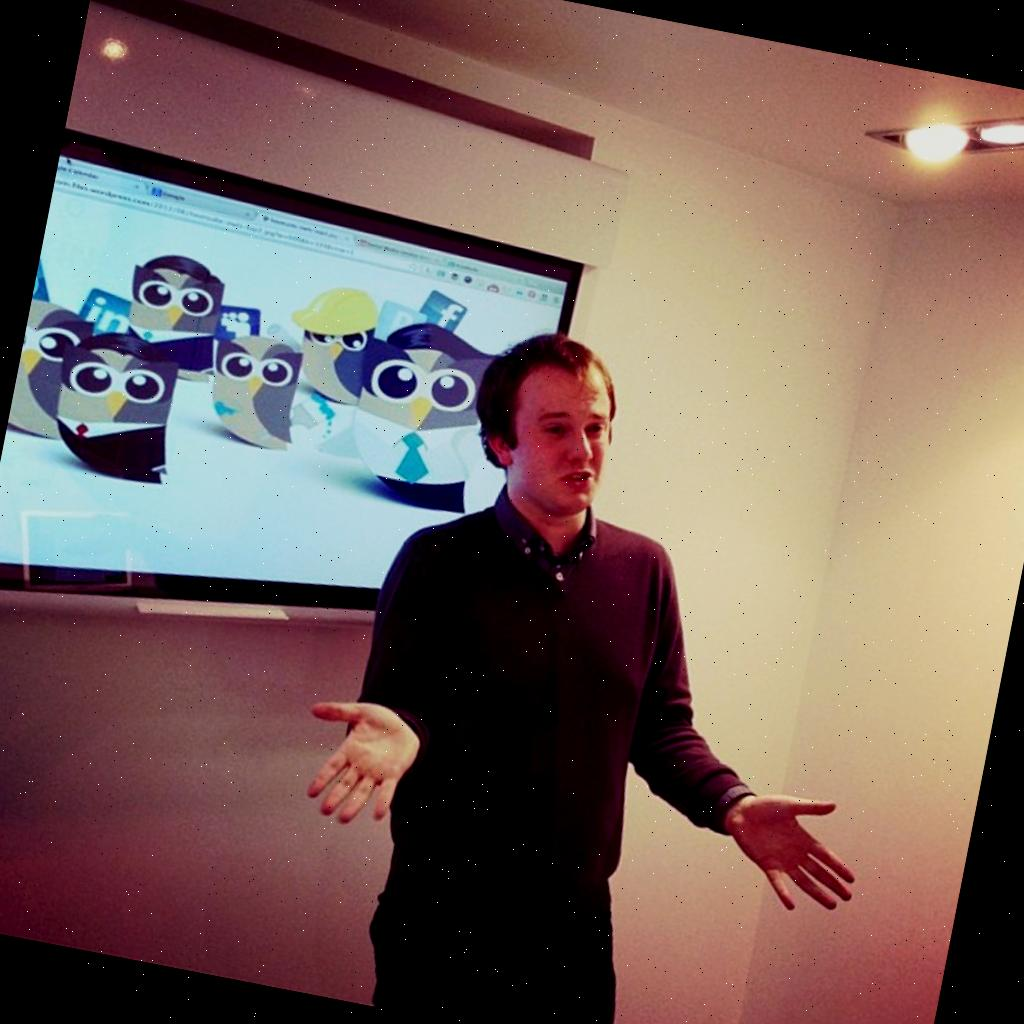Owl: (333, 314, 529, 518), (43, 332, 199, 518), (2, 269, 104, 468), (174, 325, 322, 462), (120, 230, 238, 364)
